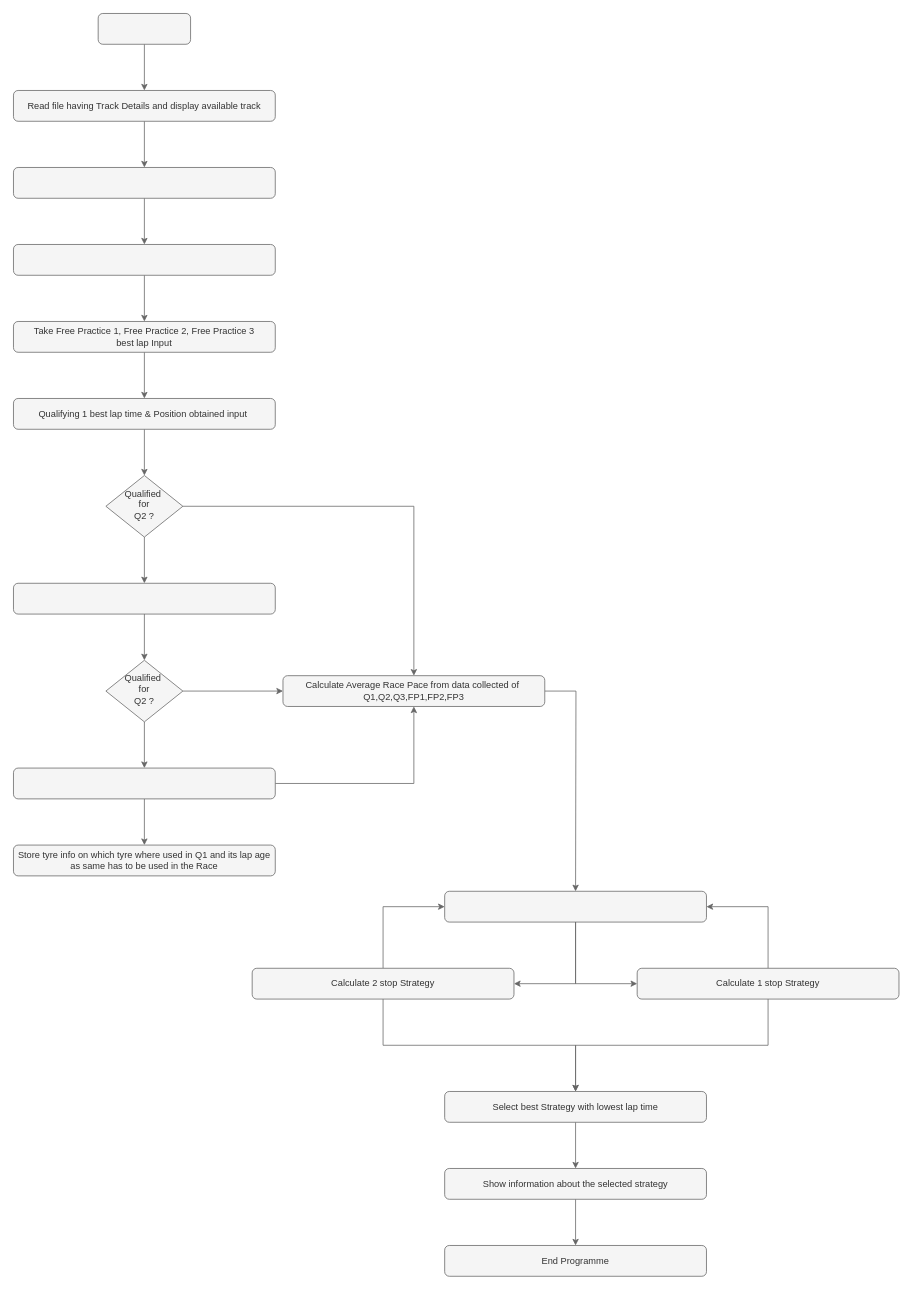
This 912x1290 diagram has some shape labels left out. The shapes that lost their labels are listed below. From the top down, each one's centre as x and y in pixels, then its label:
At (144,28): "Start the Programme".
At (144,182): "Take input of track on which we have to create a strategy".
At (144,259): "Display selected Track Data And save into programe for computation".
At (144,598): "Qualifying 2 best lap time & Position obtained input".
At (144,783): "Qualifying 3 best lap time & Position obtained input".
At (575,906): "Calculate Each stint time".
